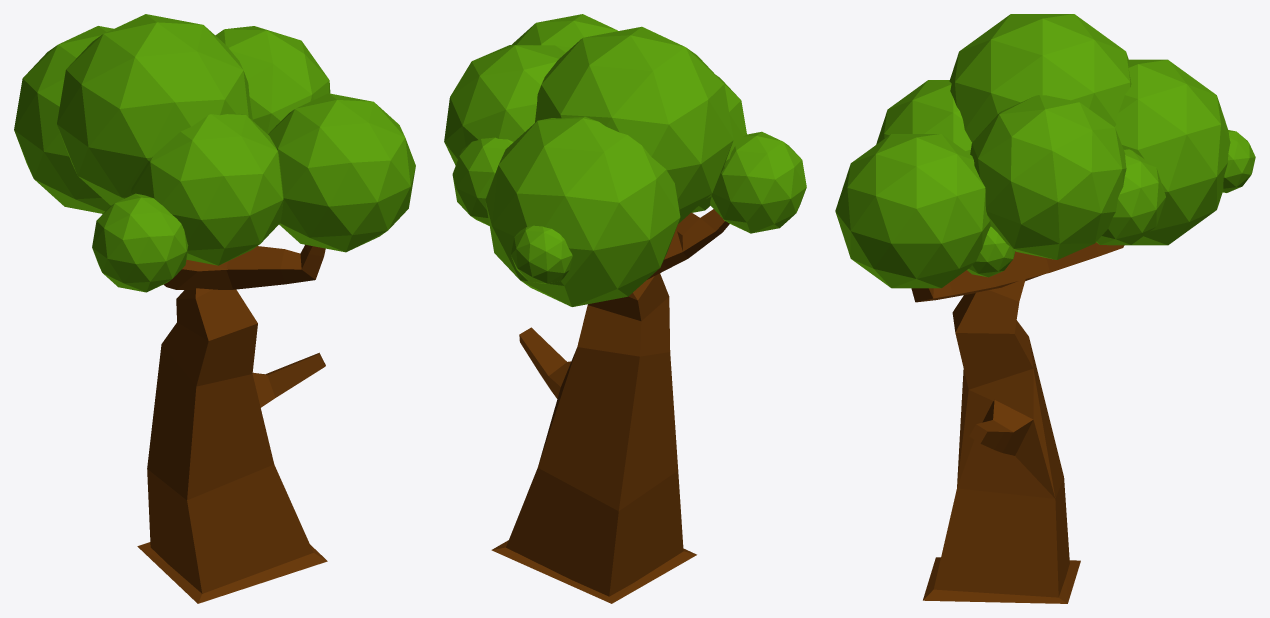
File: tree3.fbx
3 renders of one model, left to right at view 1: azimuth 30°, elevation 25°; view 2: azimuth 150°, elevation 25°; view 3: azimuth 270°, elevation 25°, orthographic. The views are drawn at different scales.
Parts seen in each view (by area): view 1: Tree3; view 2: Tree3; view 3: Tree3.
Boxes of the visible parts, left/top/right/bottom form: Tree3: left=14, top=14, right=415, bottom=603; Tree3: left=444, top=14, right=806, bottom=603; Tree3: left=835, top=14, right=1255, bottom=603.
Size of the model in its own units: 102 by 179 by 125.
